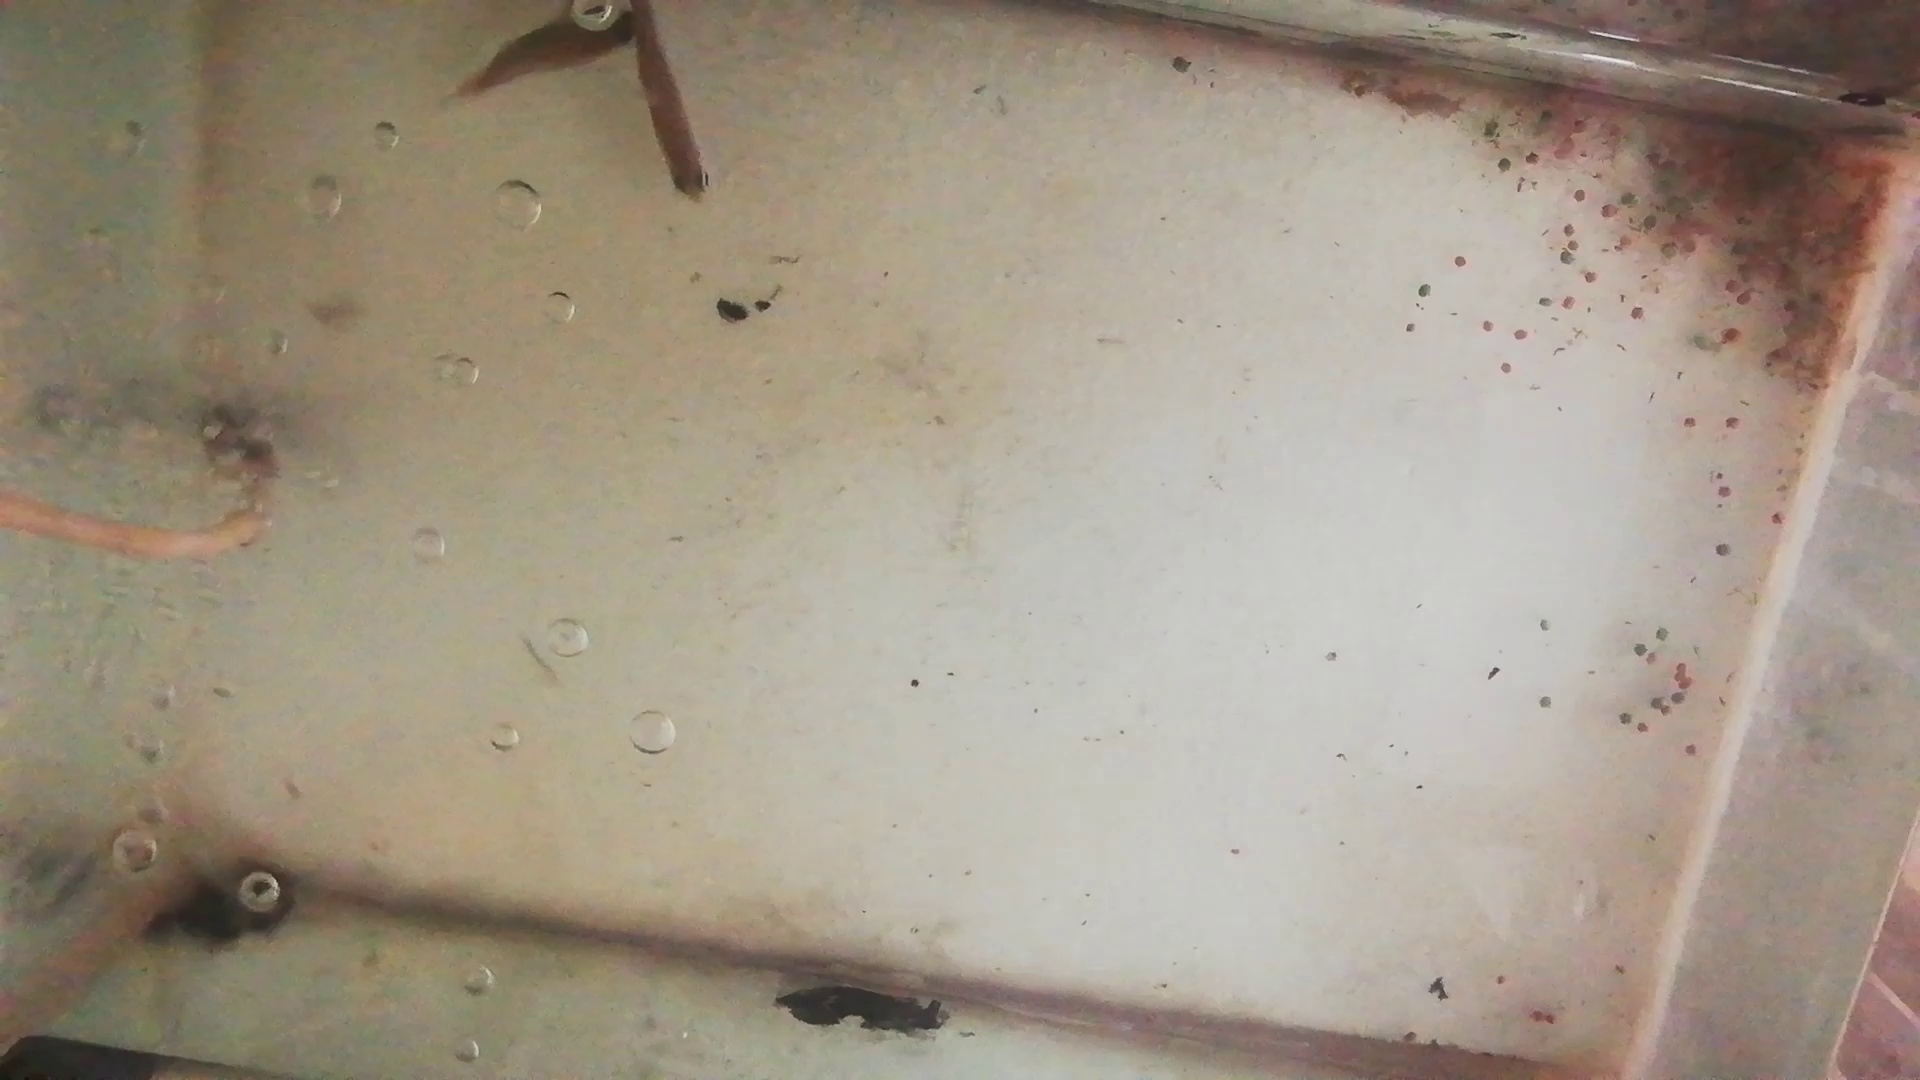fish: (632, 9, 713, 207), (458, 11, 638, 92)
